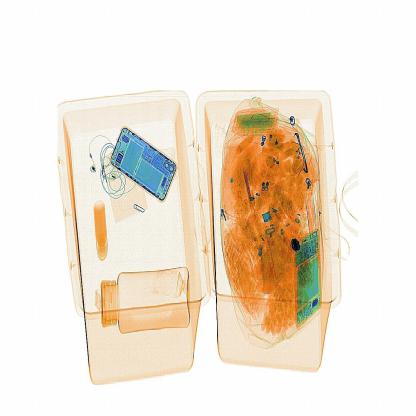scissors: (286, 228, 312, 265)
